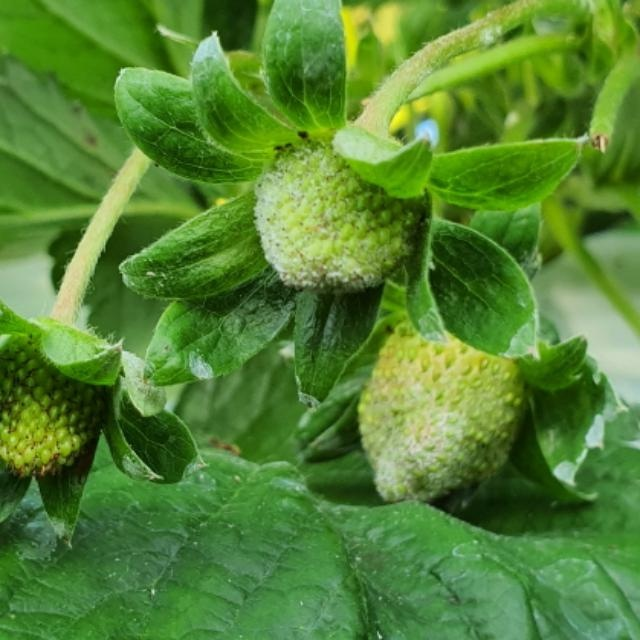Powdery Mildew Fruit: (251, 130, 427, 291), (354, 393, 506, 504)
